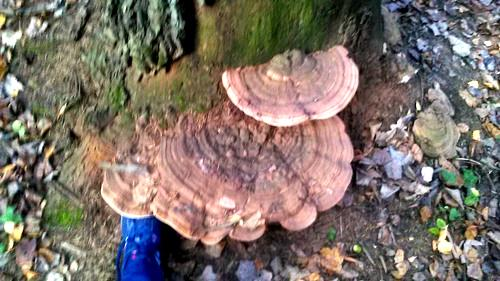Ganoderma - Fruit Body: (99, 125, 356, 244), (224, 43, 360, 126)
